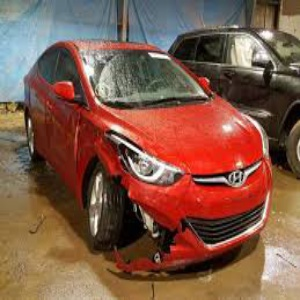bumper: (124, 190, 211, 276)
